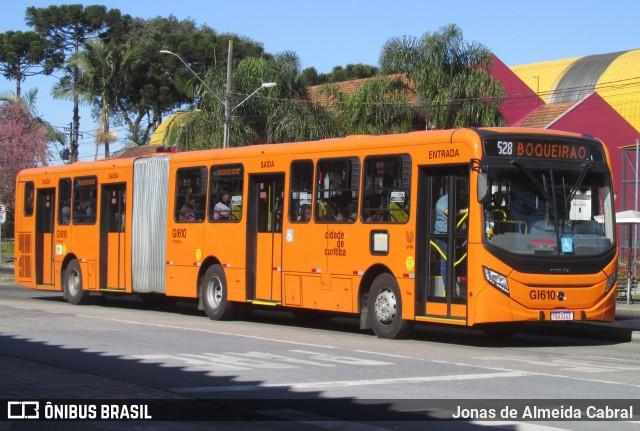BOQUEIRAO: (515, 140, 589, 162)
